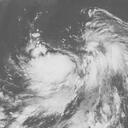cyclone: (2, 9, 127, 127)
